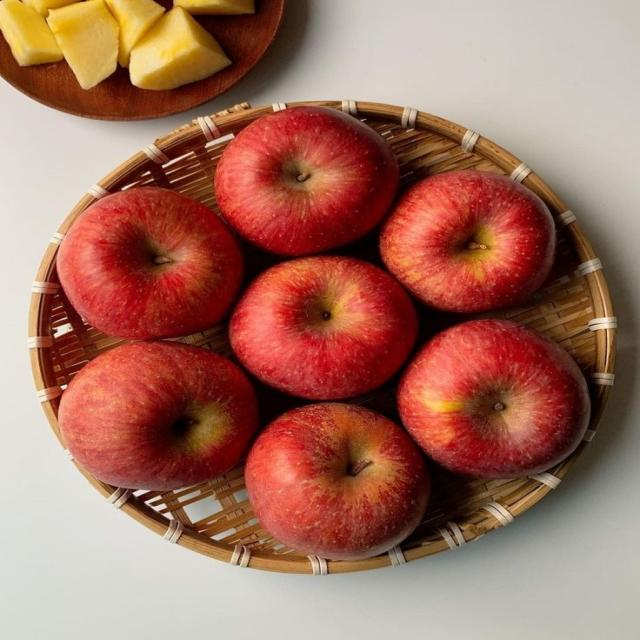apple: (399, 320, 590, 477), (59, 342, 258, 490), (246, 403, 429, 559), (57, 188, 243, 338), (215, 107, 398, 256), (230, 256, 417, 399), (380, 171, 555, 312)
